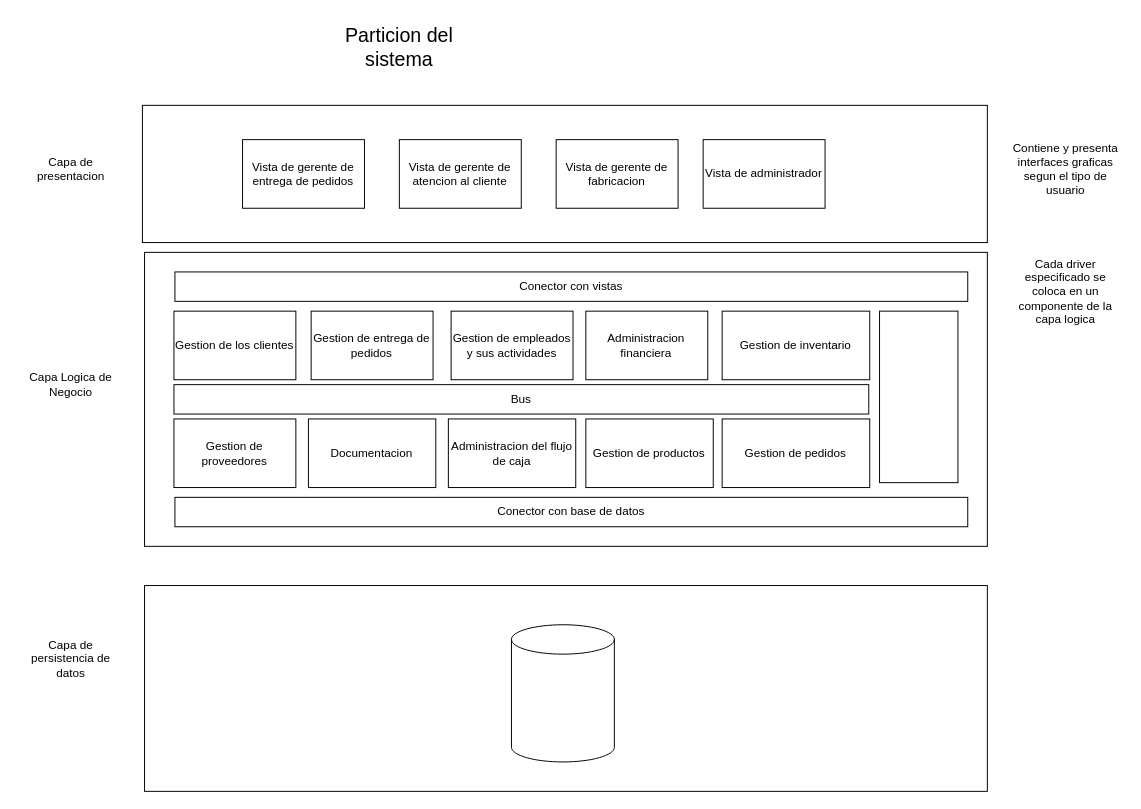
The diagram is 1141 pixels wide and 809 high, and some of its shapes have lost their labels. The shapes that lost their labels are listed below. From the top down, each one's box as (x1, y1, x2, y2) in pixels, then its label:
(879, 310, 958, 483): API de sistemas externos
(510, 624, 614, 762): Base de datos relacional
